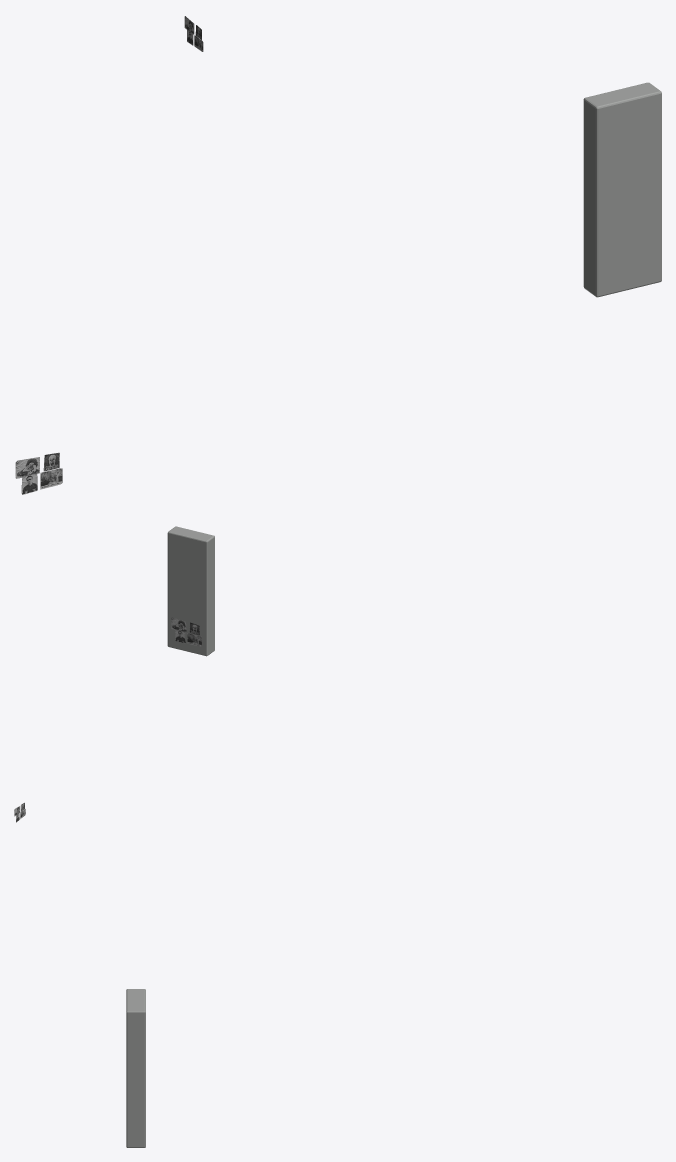
The model's file is posters.glb.
3 renders of one model, top to bottom at view 1: azimuth 30°, elevation 25°; view 2: azimuth 150°, elevation 25°; view 3: azimuth 270°, elevation 25°, orthographic. The views are drawn at different scales.
Parts seen in each view (by area): view 1: PathBridgePier, ShopRearPosters; view 2: PathBridgePier, PathPierPosters; view 3: PathBridgePier.
Part boxes in pixels (x1,y1,x2,y2): PathBridgePier: [583, 82, 661, 297]; ShopRearPosters: [15, 452, 62, 494]; PathBridgePier: [167, 526, 214, 656]; PathPierPosters: [171, 617, 201, 646]; PathBridgePier: [126, 989, 145, 1147].
Size of the model in its own units: 39.63 by 10.22 by 42.61.
Materials: 2 (1 with a texture image).
